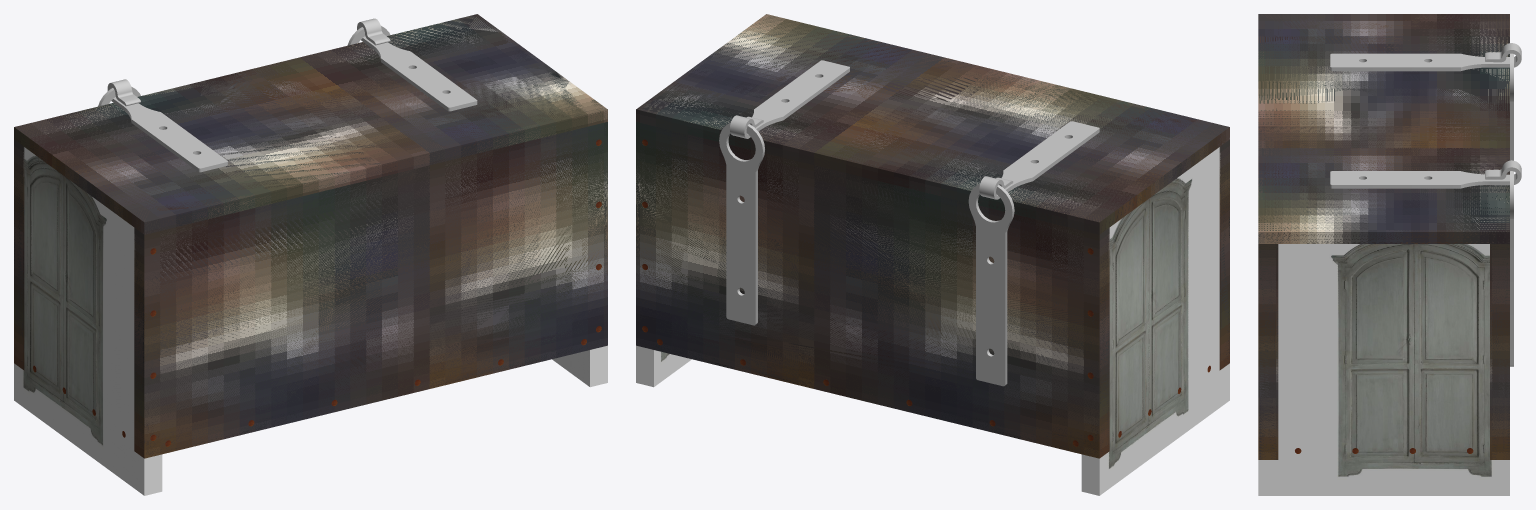
3 renders of one model, left to right at view 1: azimuth 30°, elevation 25°; view 2: azimuth 150°, elevation 25°; view 3: azimuth 270°, elevation 25°, orthographic. The views are drawn at different scales.
Parts seen in each view (by area): view 1: mesh11_mesh11-geometry, mesh15_mesh15-geometry, mesh9_mesh9-geometry, mesh17_mesh17-geometry, mesh12_mesh12-geometry, mesh13_mesh13-geometry; view 2: mesh12_mesh12-geometry, mesh15_mesh15-geometry, mesh9_mesh9-geometry, mesh18_mesh18-geometry, mesh17_mesh17-geometry, mesh11_mesh11-geometry, mesh13_mesh13-geometry; view 3: mesh13_mesh13-geometry, mesh15_mesh15-geometry, mesh17_mesh17-geometry, mesh11_mesh11-geometry, mesh12_mesh12-geometry, mesh18_mesh18-geometry.
Boxes of the visible parts, x1,y1,x2,y2 form: mesh11_mesh11-geometry: [134, 122, 607, 458]; mesh15_mesh15-geometry: [14, 14, 607, 234]; mesh9_mesh9-geometry: [14, 147, 162, 495]; mesh17_mesh17-geometry: [107, 18, 477, 172]; mesh12_mesh12-geometry: [14, 139, 24, 370]; mesh13_mesh13-geometry: [552, 345, 607, 387]; mesh12_mesh12-geometry: [636, 122, 1109, 458]; mesh15_mesh15-geometry: [636, 14, 1229, 234]; mesh9_mesh9-geometry: [1081, 147, 1229, 495]; mesh18_mesh18-geometry: [719, 123, 1014, 386]; mesh17_mesh17-geometry: [729, 60, 1099, 199]; mesh11_mesh11-geometry: [1219, 139, 1229, 370]; mesh13_mesh13-geometry: [636, 345, 691, 387]; mesh13_mesh13-geometry: [1258, 244, 1509, 495]; mesh15_mesh15-geometry: [1258, 14, 1509, 243]; mesh17_mesh17-geometry: [1330, 43, 1521, 188]; mesh11_mesh11-geometry: [1258, 244, 1278, 459]; mesh12_mesh12-geometry: [1490, 244, 1509, 459]; mesh18_mesh18-geometry: [1510, 53, 1513, 366].
Size of the model in its own units: 0.785 by 0.4727 by 0.4003.
